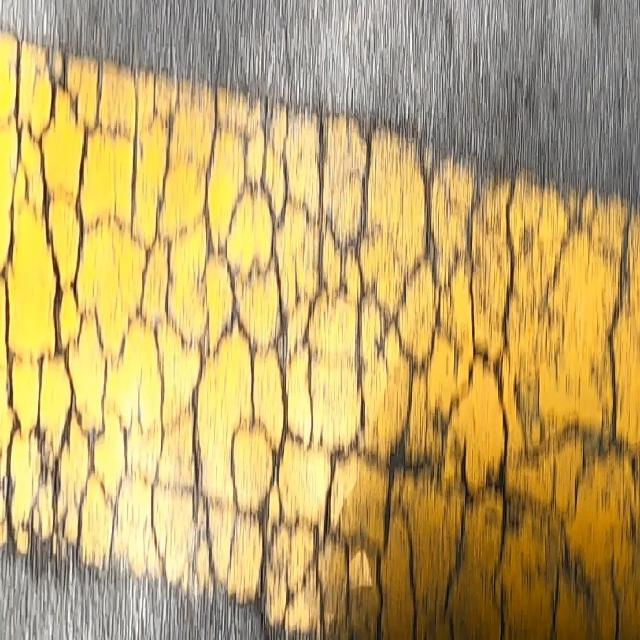PIEL DE COCODRILO: (0, 29, 639, 639)
